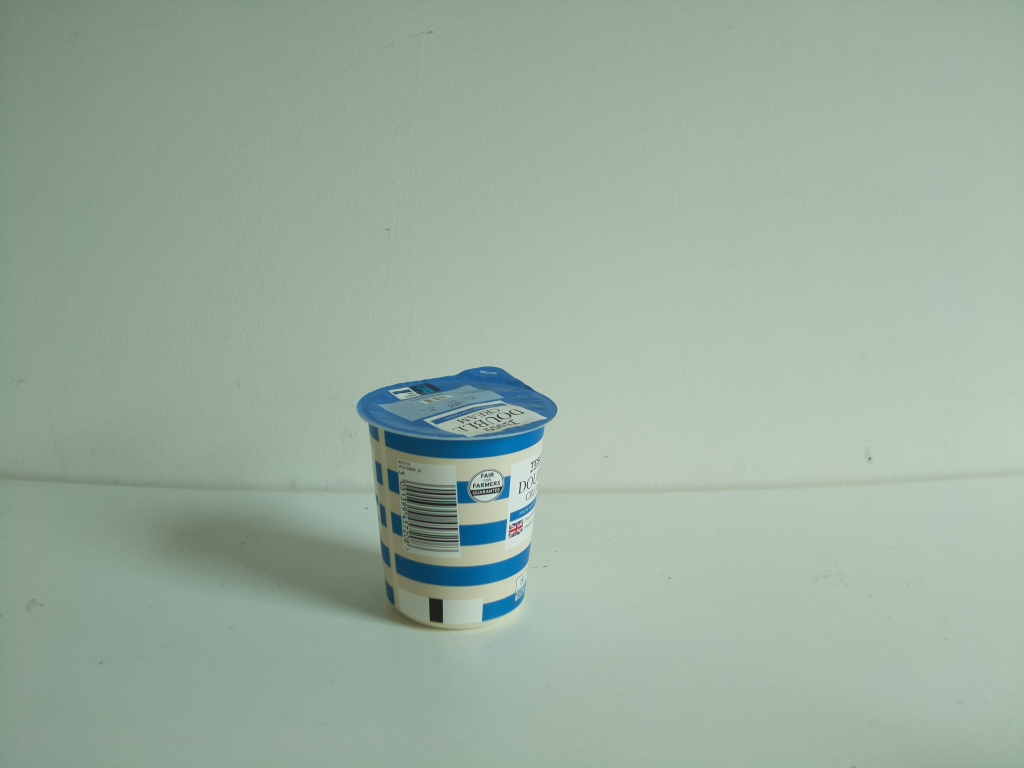cream: (354, 366, 561, 633)
